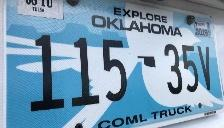1: (29, 33, 65, 113), (70, 35, 101, 107)
3: (162, 43, 185, 96)
5: (101, 38, 129, 103), (181, 44, 200, 94)
V: (196, 44, 214, 92)
